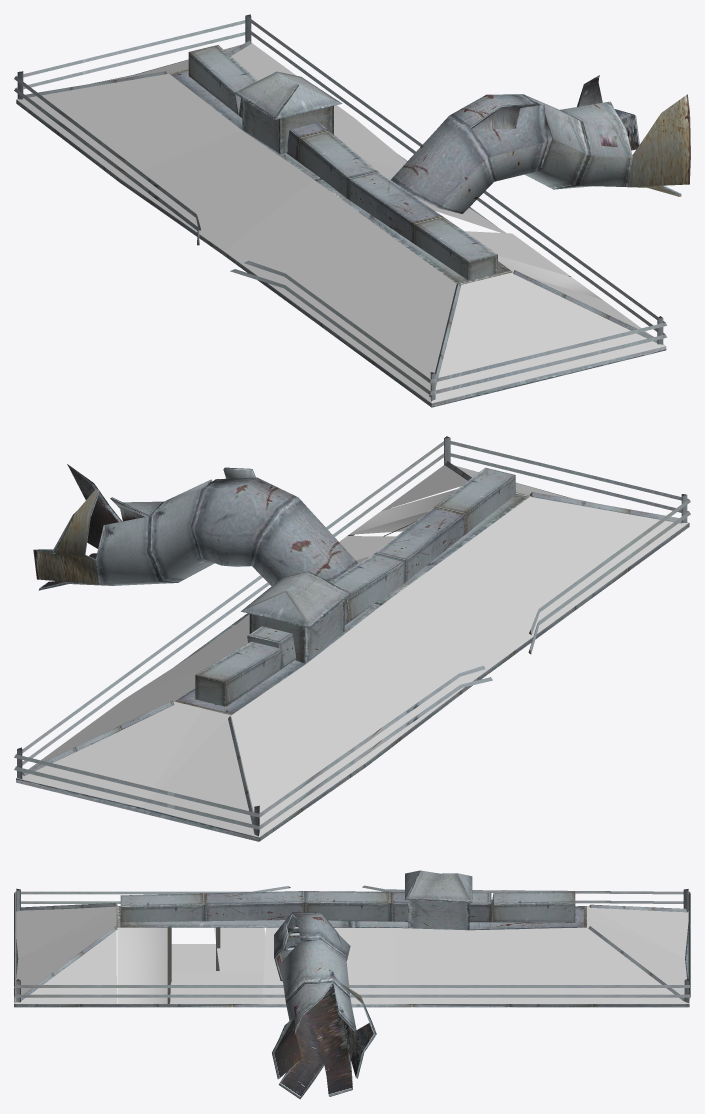
The model's file is Window_airvent.fbx.
The picture shows the model from 3 angles, top to bottom: view 1: azimuth 30°, elevation 25°; view 2: azimuth 150°, elevation 25°; view 3: azimuth 270°, elevation 25°; orthographic projection. The views are drawn at different scales.
Visible parts, largest first — view 1: Window_airvent; view 2: Window_airvent; view 3: Window_airvent.
Part boxes in pixels (bbox=[...]): Window_airvent: bbox=[14, 14, 690, 407]; Window_airvent: bbox=[14, 436, 690, 841]; Window_airvent: bbox=[14, 870, 690, 1099].
Bounding box in the file's own units: 723 × 209 × 1150.
